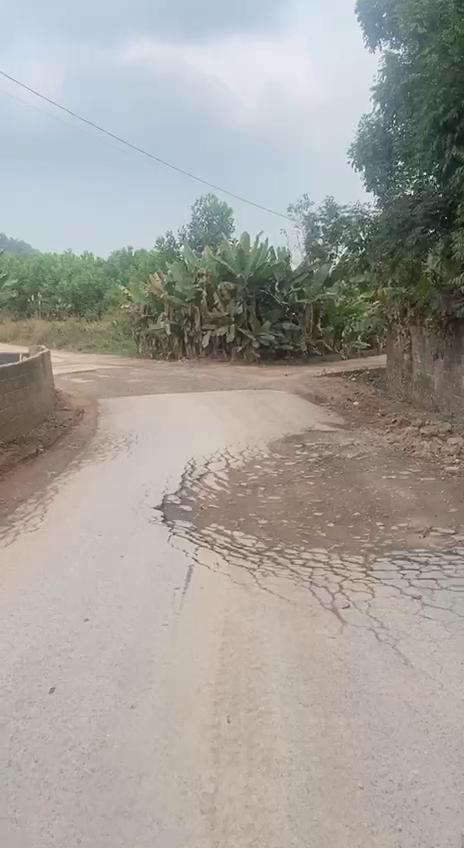pothole: (164, 420, 464, 582)
